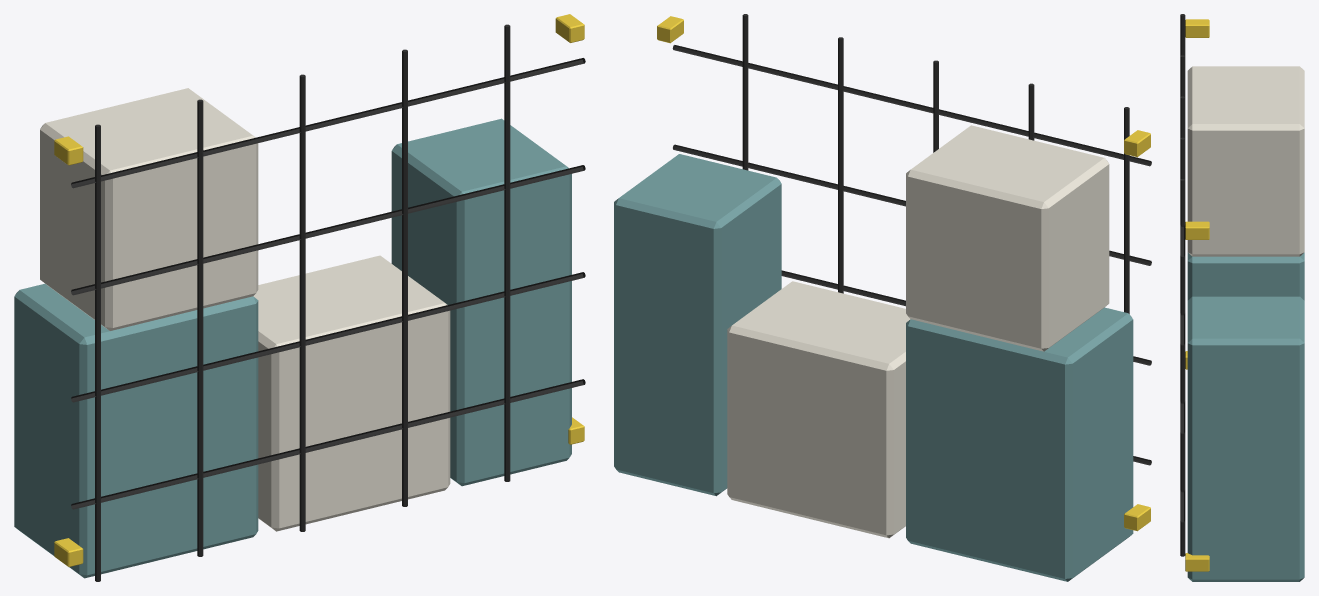
Rendered from cargo_net_wall.glb.
3 renders of one model, left to right at view 1: azimuth 30°, elevation 25°; view 2: azimuth 150°, elevation 25°; view 3: azimuth 270°, elevation 25°, orthographic. The views are drawn at different scales.
Parts seen in each view (by area): view 1: cargo_net_wall; view 2: cargo_net_wall; view 3: cargo_net_wall.
Part boxes in pixels (<box>): cargo_net_wall: <box>14,14,585,581</box>; cargo_net_wall: <box>614,14,1151,581</box>; cargo_net_wall: <box>1180,14,1304,581</box>.
Bounding box in the file's own units: 2.02 × 1.7 × 0.51.
